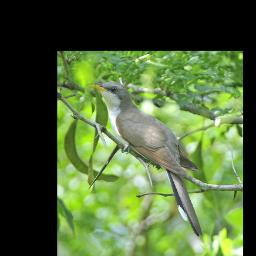Cuckoo: (88, 81, 203, 236)
